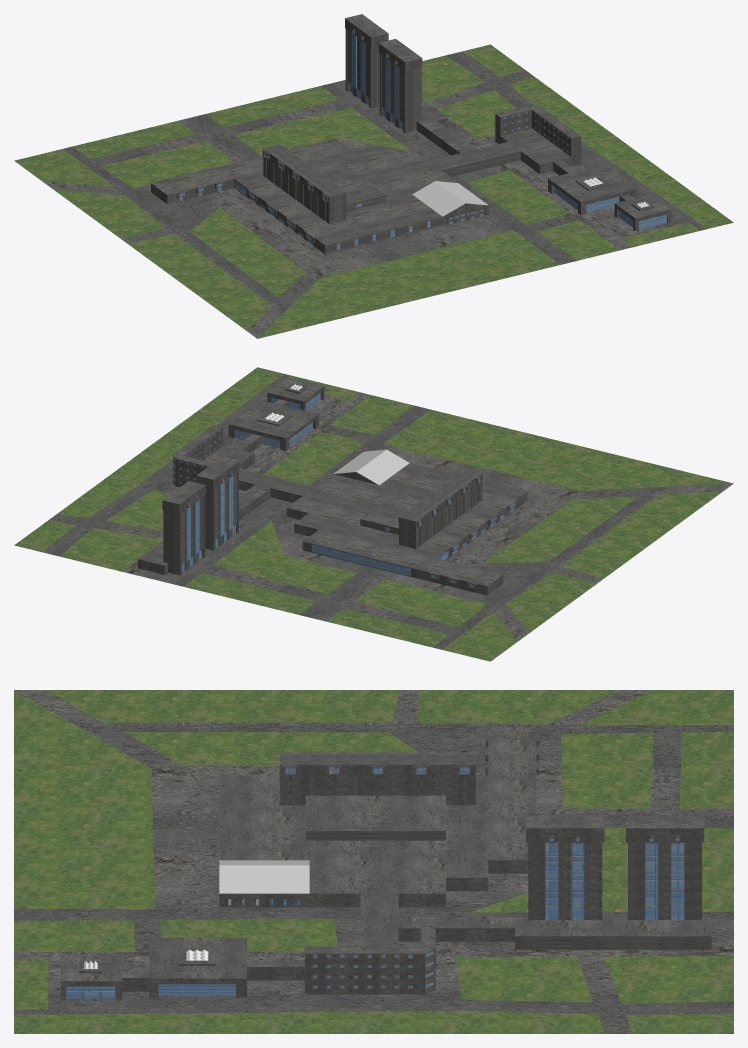
3 views of the same model, one above another, from view 1: azimuth 30°, elevation 25°; view 2: azimuth 150°, elevation 25°; view 3: azimuth 270°, elevation 25° (orthographic). The views are drawn at different scales.
Visible parts, largest first — view 1: Plane, downtown building; view 2: Plane, downtown building; view 3: Plane, downtown building.
Part boxes in pixels (left/top/right/bottom): Plane: left=14, top=44, right=733, bottom=338; downtown building: left=151, top=14, right=671, bottom=254; Plane: left=14, top=367, right=733, bottom=661; downtown building: left=138, top=377, right=527, bottom=595; Plane: left=14, top=690, right=733, bottom=1033; downtown building: left=60, top=727, right=711, bottom=1000.
Bounding box in the file's own units: 109 × 15.61 × 96.29.
